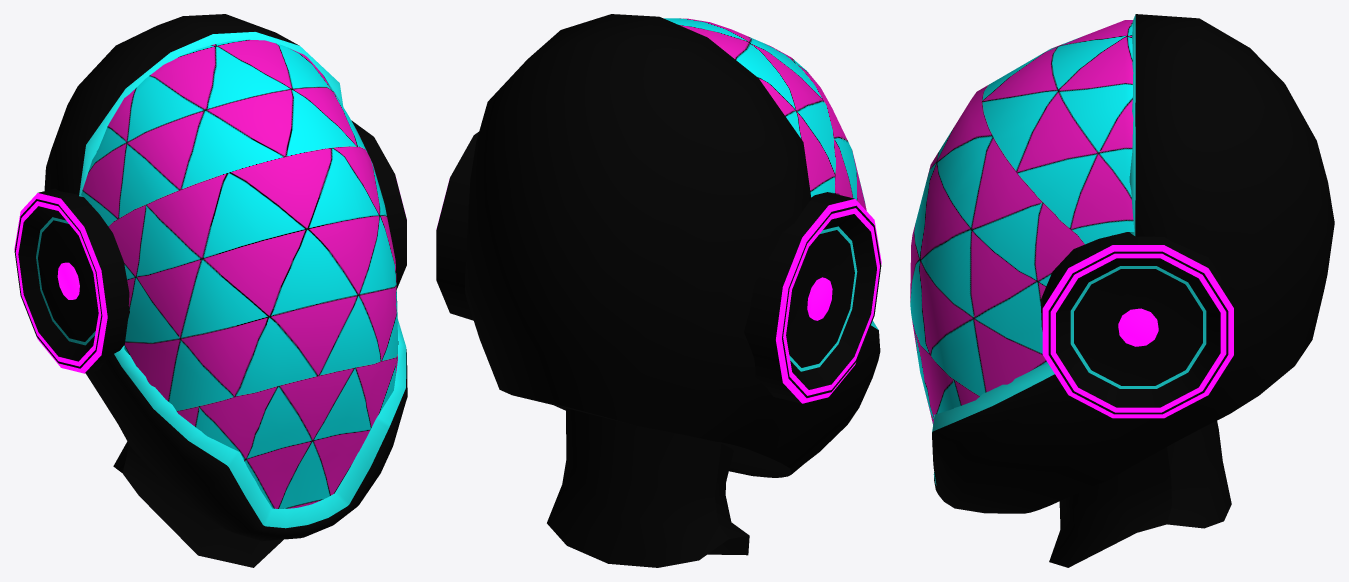
File: Helmet_Black.glb
3 views of the same model, side by side, from view 1: azimuth 30°, elevation 25°; view 2: azimuth 150°, elevation 25°; view 3: azimuth 270°, elevation 25° (orthographic). The views are drawn at different scales.
Parts seen in each view (by area): view 1: Helmet Triangles-Black; view 2: Helmet Triangles-Black; view 3: Helmet Triangles-Black.
Boxes of the visible parts, <box> form: Helmet Triangles-Black: <box>14,14,407,567</box>; Helmet Triangles-Black: <box>436,14,881,567</box>; Helmet Triangles-Black: <box>910,14,1334,567</box>.
Size of what is drawn, in the model's own units: 0.2991 by 0.4706 by 0.3388.
Materials: 2 (2 with a texture image).
